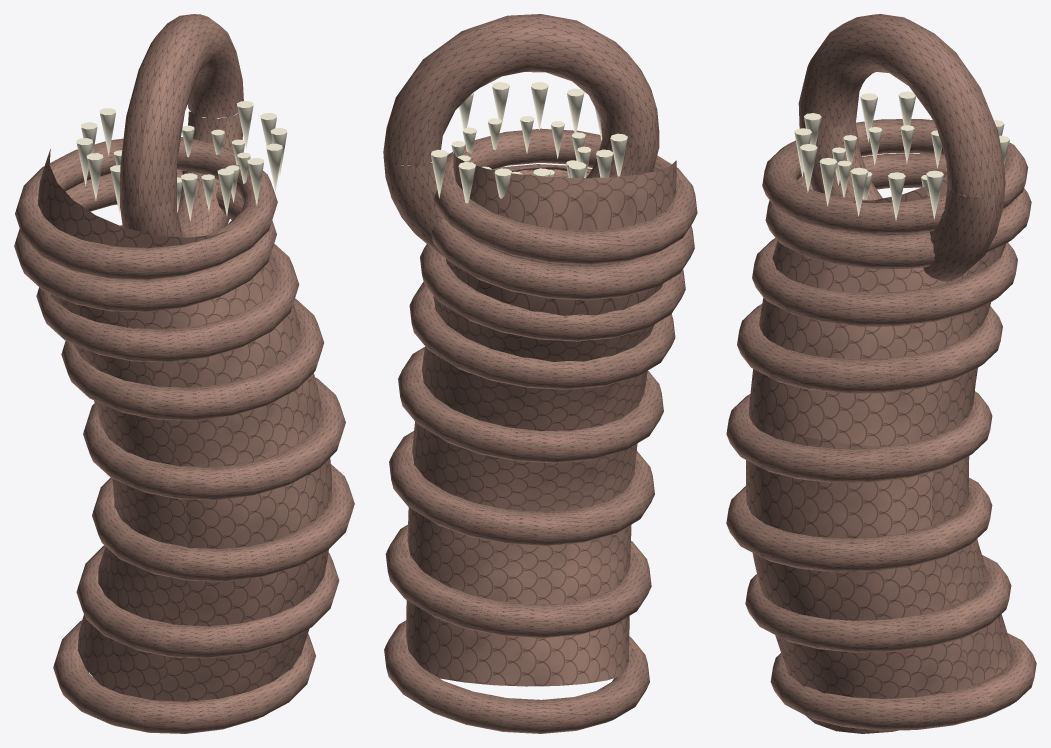
File: gusano_sand.glb
3 views of the same model, side by side, from view 1: azimuth 30°, elevation 25°; view 2: azimuth 150°, elevation 25°; view 3: azimuth 270°, elevation 25° (orthographic).
Visible parts, largest first — view 1: body, head; view 2: body, head; view 3: body, head.
Boxes of the visible parts, left/top/right/bottom form: body: left=14, top=137, right=354, bottom=733; head: left=76, top=14, right=287, bottom=237; body: left=384, top=128, right=697, bottom=733; head: left=383, top=14, right=659, bottom=257; body: left=726, top=119, right=1036, bottom=733; head: left=794, top=14, right=1009, bottom=281.
Size of the model in its own units: 1.45 by 3.22 by 1.35.
Materials: 2 (1 with a texture image).
